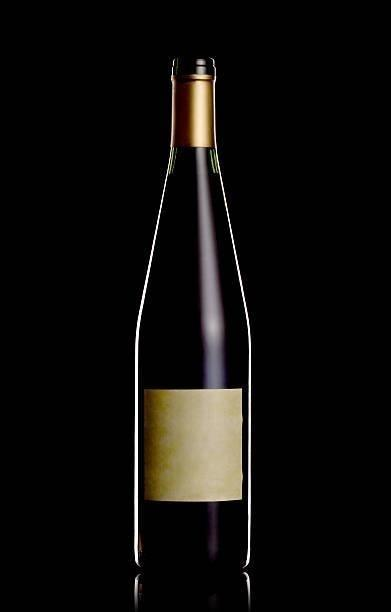bottle-glass: (127, 51, 258, 591)
